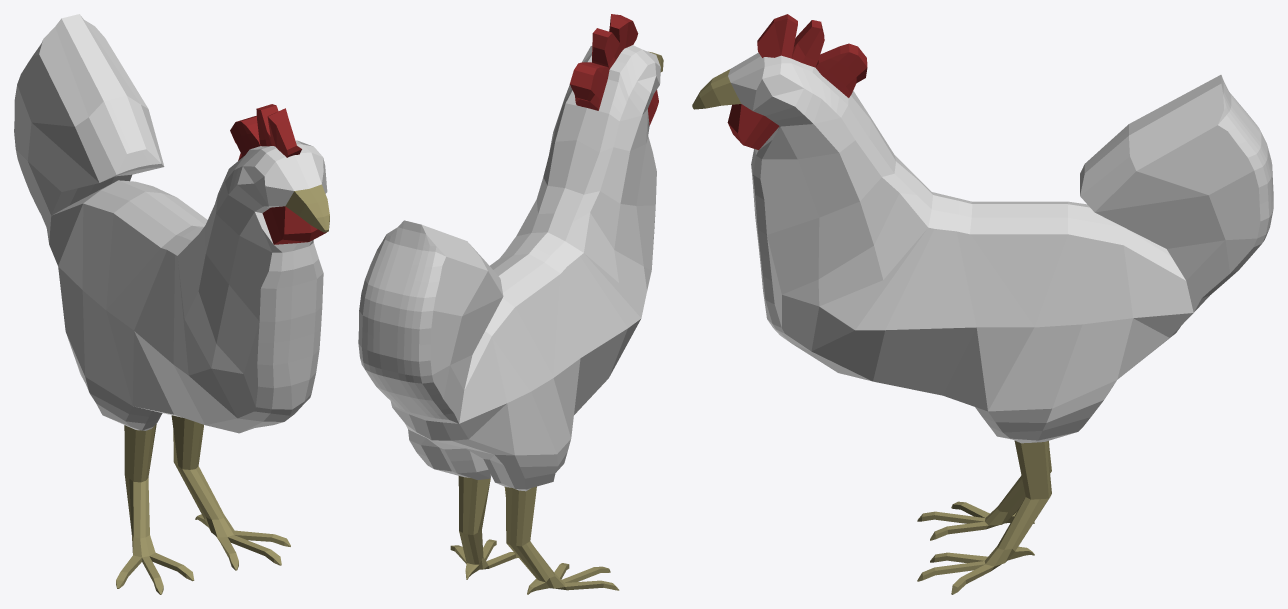
Rendered from chicken model white FIXED.fbx.
The picture shows the model from 3 angles, left to right: view 1: azimuth 30°, elevation 25°; view 2: azimuth 150°, elevation 25°; view 3: azimuth 270°, elevation 25°; orthographic projection. The views are drawn at different scales.
Visible parts, largest first — view 1: Chicken; view 2: Chicken; view 3: Chicken.
Part boxes in pixels (<box>): Chicken: <box>14,14,329,594</box>; Chicken: <box>358,14,663,594</box>; Chicken: <box>692,14,1273,594</box>.
Bounding box in the file's own units: 236 × 671 × 663.
